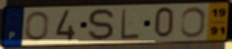0: (153, 5, 177, 41)
4: (55, 9, 77, 43)
L: (120, 8, 141, 41)
O: (179, 6, 206, 39), (24, 10, 51, 42)
S: (87, 7, 116, 43)
